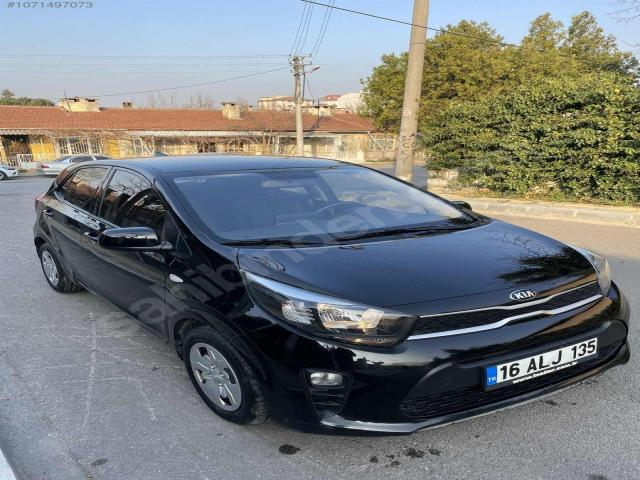plaka: (484, 338, 598, 388)
